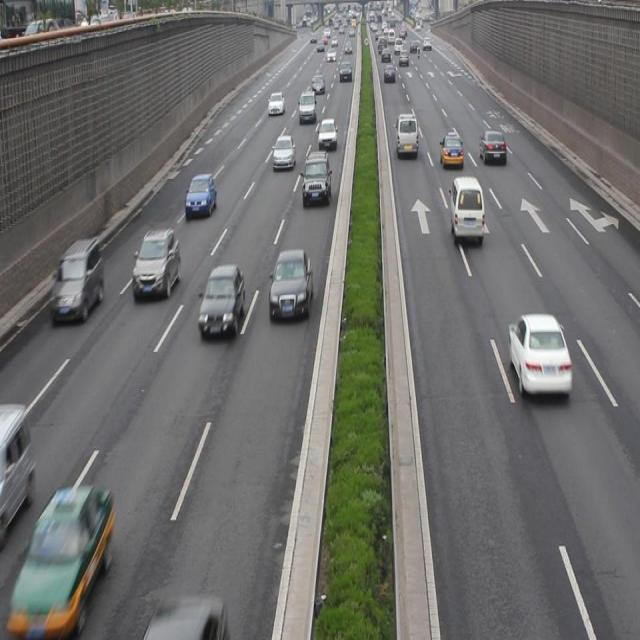car: (12, 484, 113, 630), (508, 312, 570, 396), (50, 235, 103, 321), (143, 590, 224, 640), (133, 224, 179, 297), (200, 264, 245, 338), (269, 248, 312, 320), (301, 149, 331, 205), (185, 174, 215, 218), (480, 128, 506, 166), (438, 134, 462, 169), (272, 133, 295, 169), (317, 117, 338, 152)
truck: (1, 400, 35, 534), (449, 174, 483, 243), (396, 110, 418, 156)
